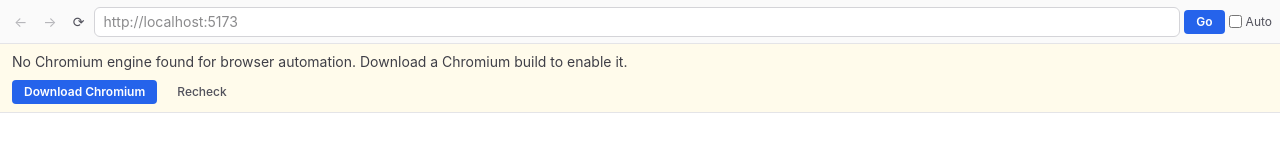
Test: BrowserPane (#71, #72) › Chromium engine consent banner (#217) › surfaces a download error without dismissing the banner
Expected: the element with test id "chromium-consent" is shown, [0,44,1279,113]
Click the button labelled "Download Chromium": [85, 92] box [12,80,157,104]
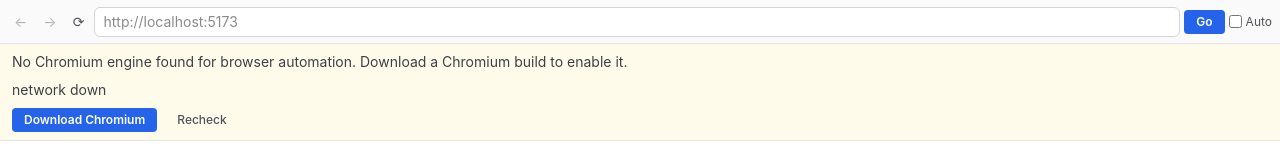
Now the message with test id "chromium-error" reads "network down", box [12,81,106,98]
